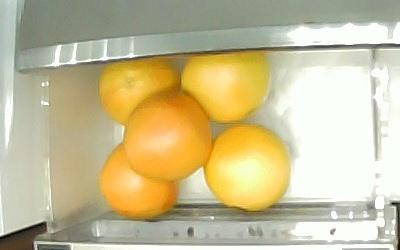grapefruit: (122, 88, 213, 180), (202, 122, 291, 211), (98, 139, 179, 218), (179, 54, 269, 123), (97, 62, 181, 125)
